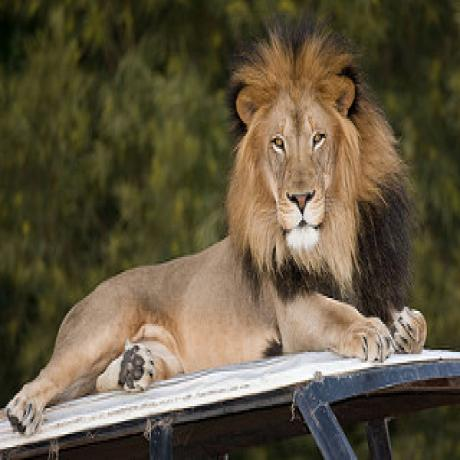Lion: (9, 30, 437, 430)
